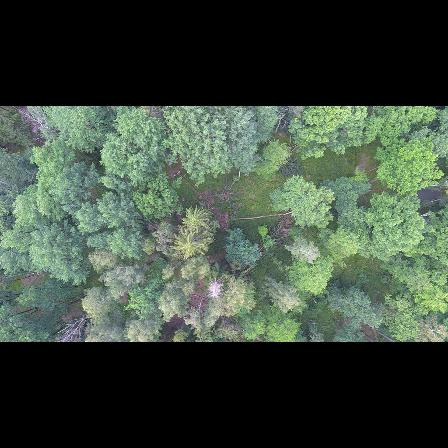Dead: (54, 312, 94, 342), (14, 108, 53, 133), (206, 277, 221, 304)
